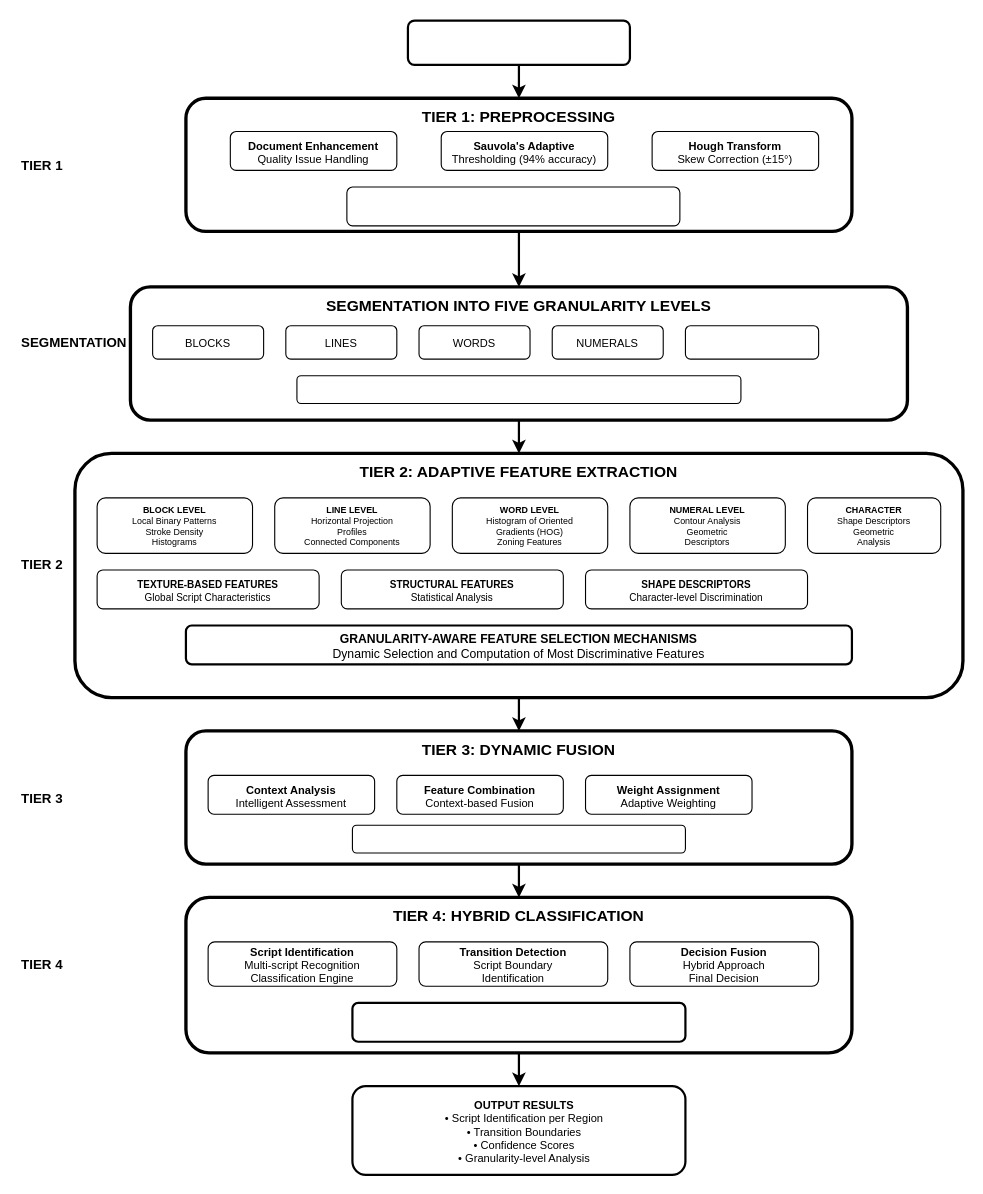
This 983x1194 diagram has some shape labels left out. Here are the shapes that lost their labels. From the top down, the centre of each, then its label:
(x=518, y=42): Input Document Image
(x=513, y=206): Connected Component Analysis with Script-aware Heuristics
(x=751, y=342): ALPHANUMERIC CHARACTERS
(x=518, y=389): Text Region Identification at Multiple Granularity Levels
(x=518, y=838): Intelligent Feature Combination Based on Context
(x=518, y=1021): FINAL CLASSIFICATION RESULTS Multilingual Document Analysis Output
